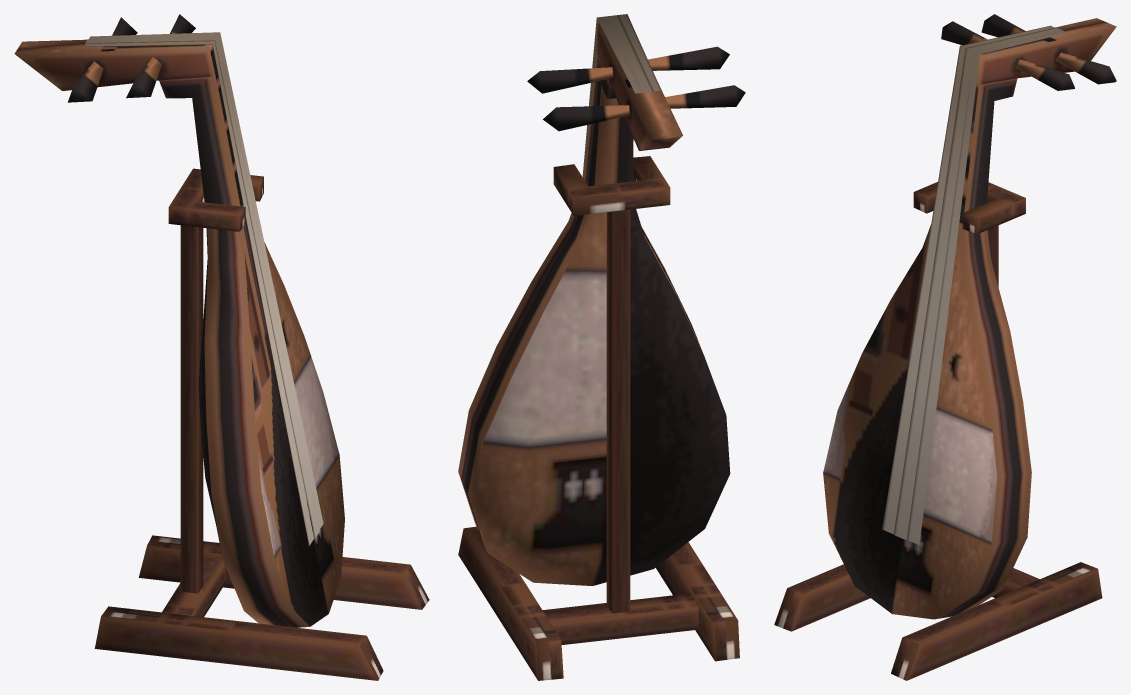
The model's file is int_oth_lute.dae.
3 renders of one model, left to right at view 1: azimuth 30°, elevation 25°; view 2: azimuth 150°, elevation 25°; view 3: azimuth 270°, elevation 25°, orthographic. The views are drawn at different scales.
Visible parts, largest first — view 1: int_oth_lute; view 2: int_oth_lute; view 3: int_oth_lute.
Part boxes in pixels (bbox=[...]): int_oth_lute: bbox=[14, 14, 429, 680]; int_oth_lute: bbox=[458, 14, 745, 680]; int_oth_lute: bbox=[774, 14, 1116, 680].
Size of the model in its own units: 23.8 by 42 by 23.8.
Materials: 2 (2 with a texture image).
